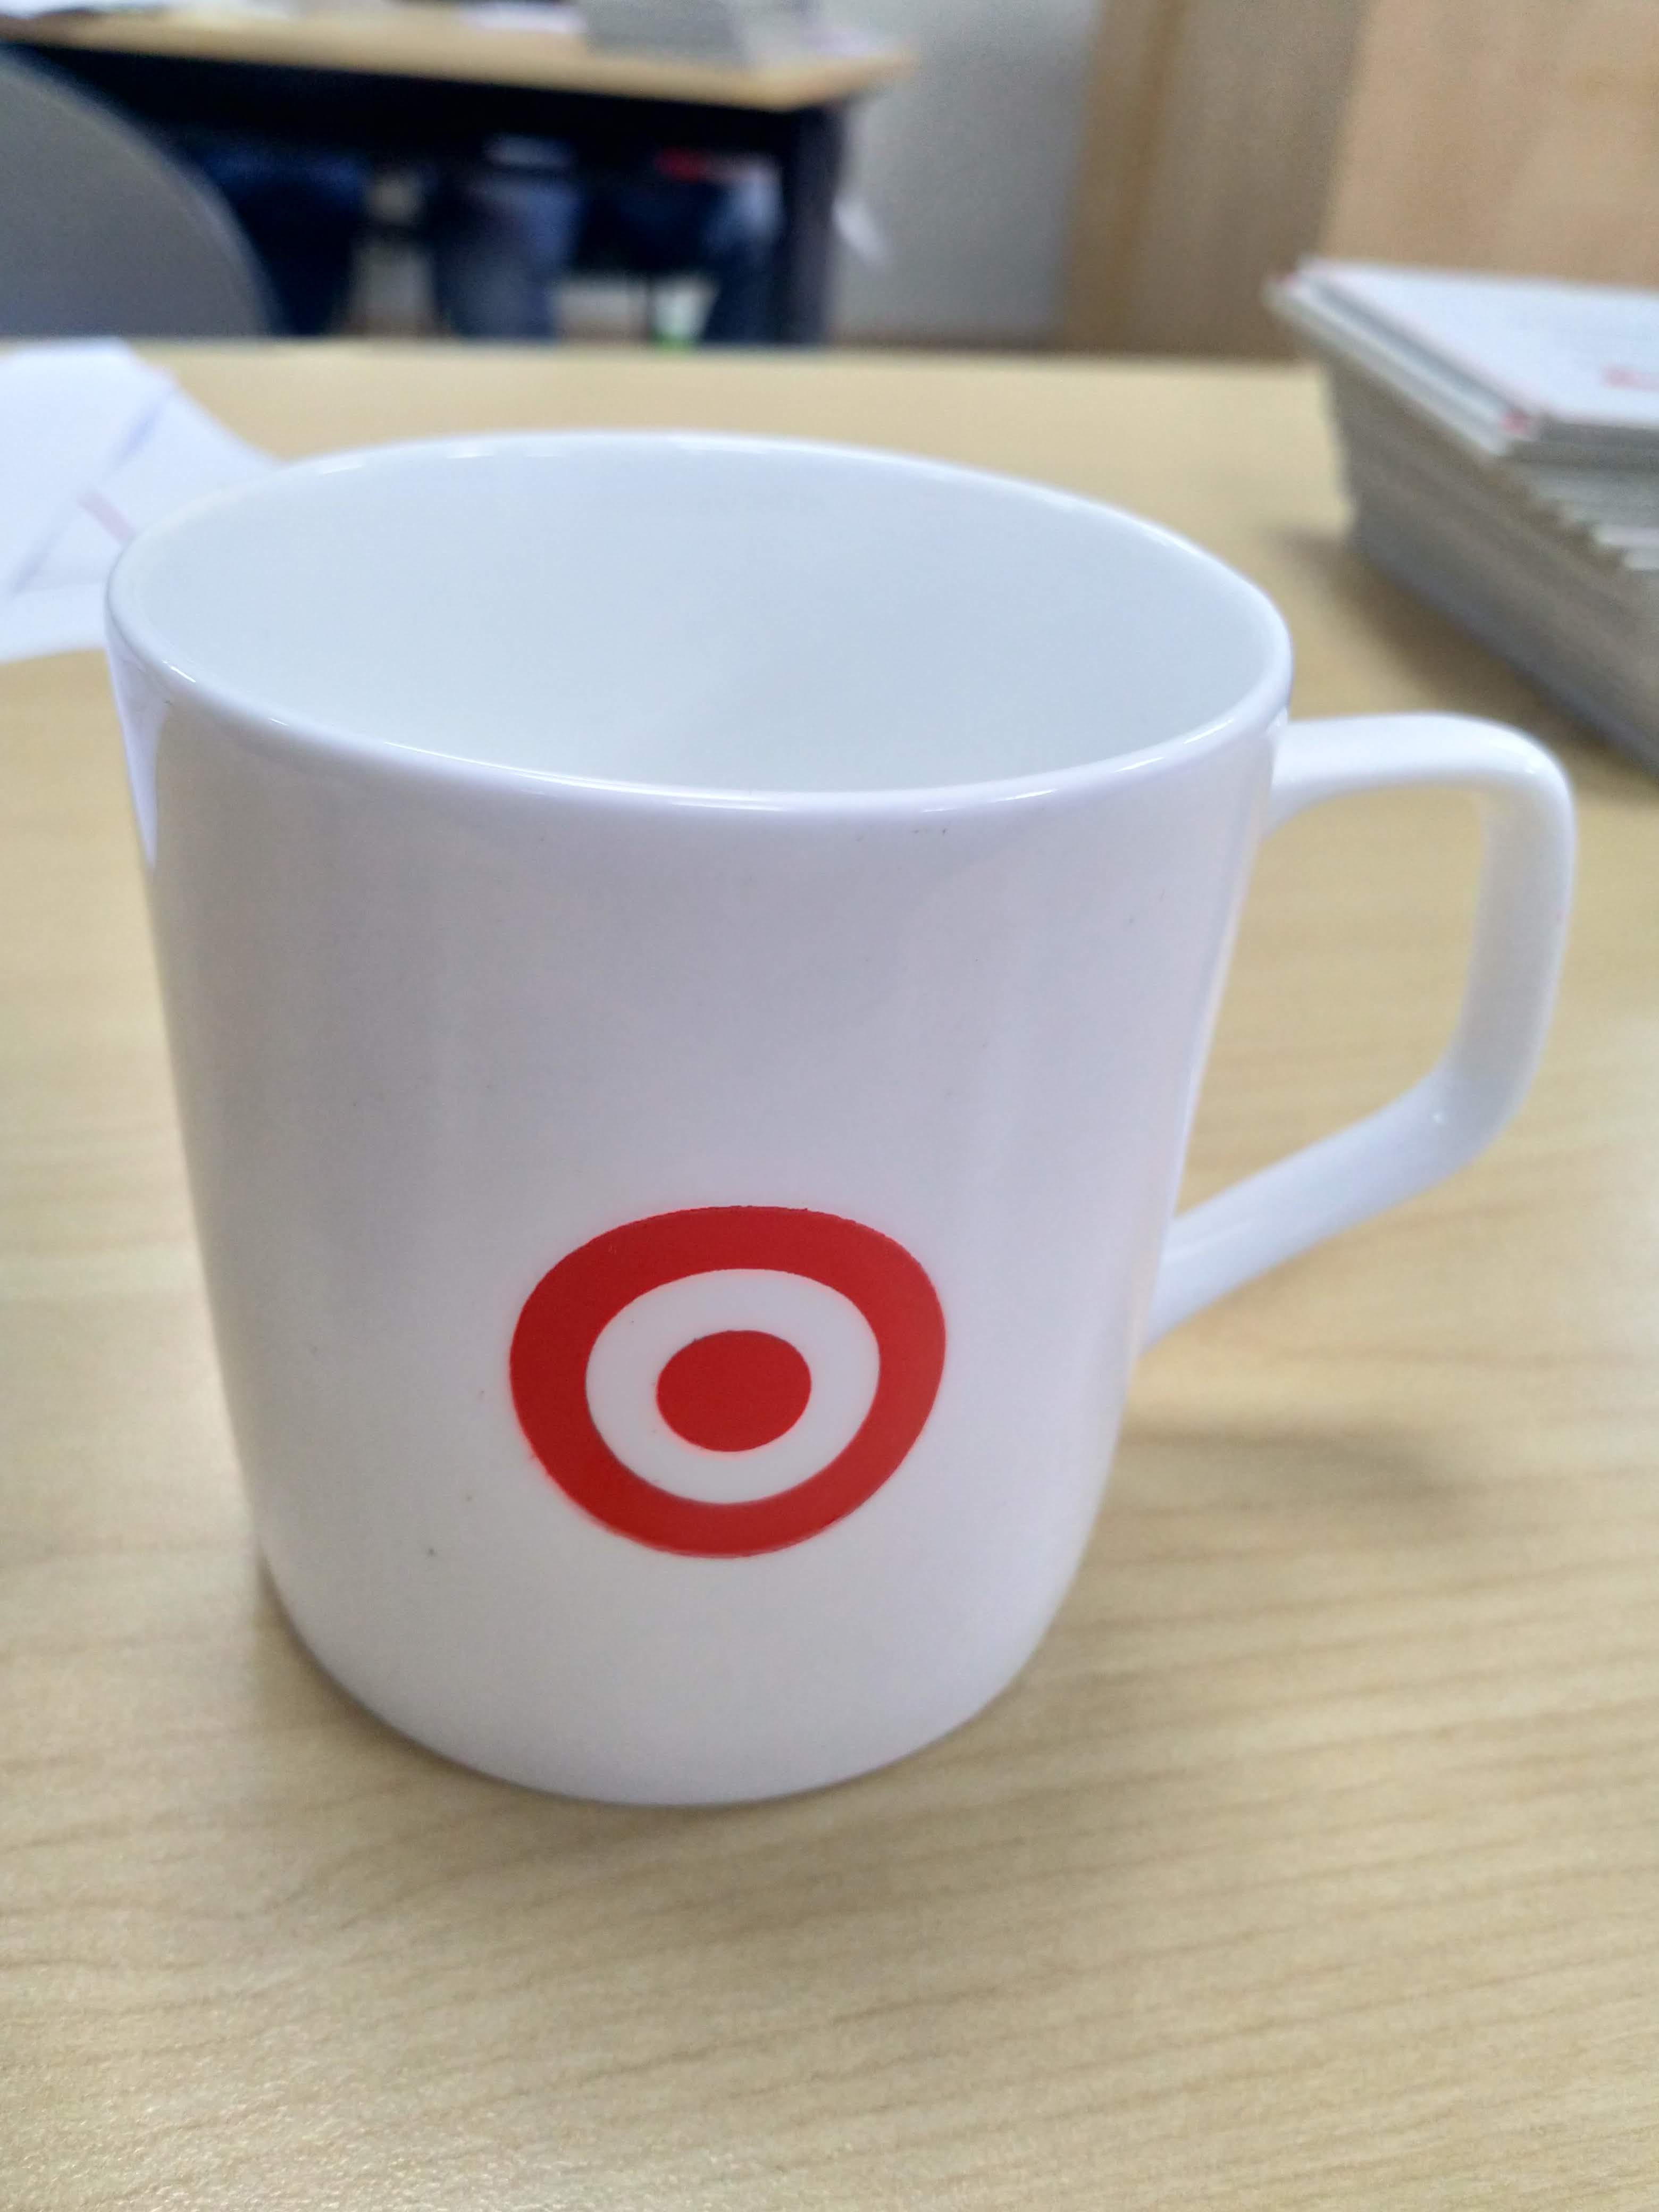bullseye: (497, 1190, 958, 1568)
